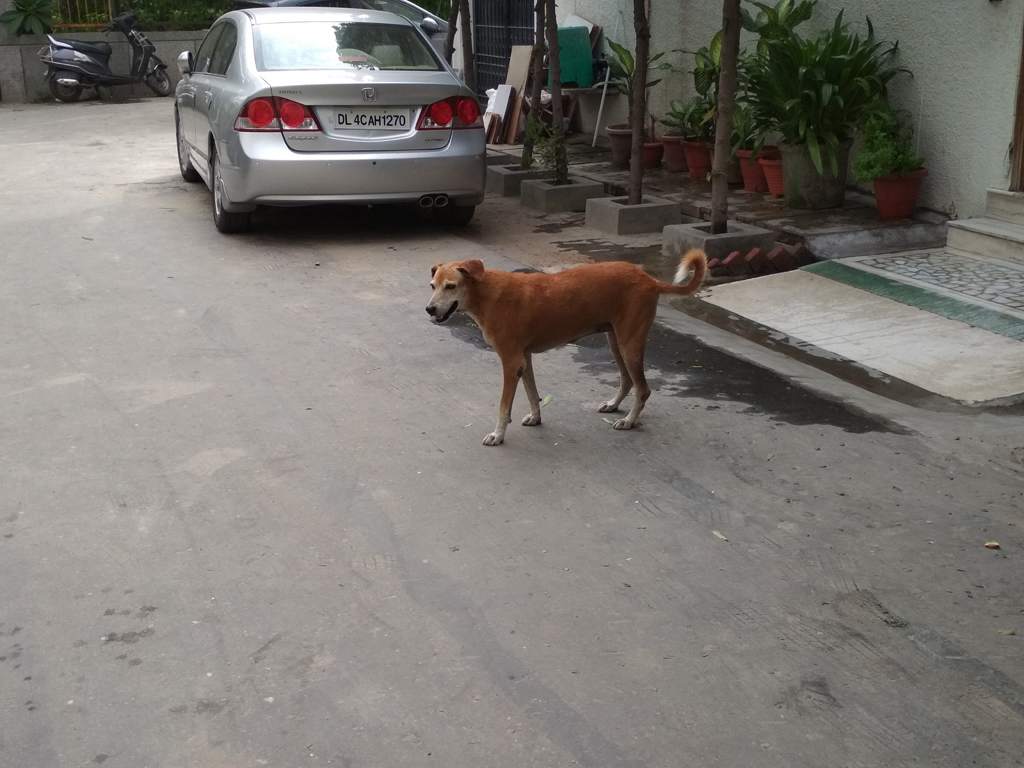dog: (423, 248, 708, 447)
